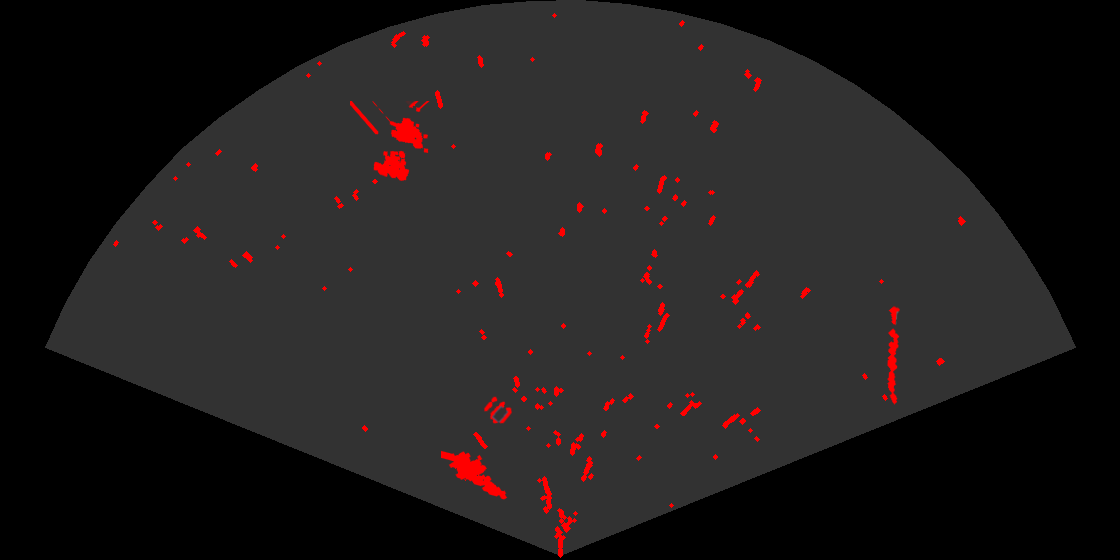ball: (482, 395, 514, 425)
cage: (350, 101, 431, 183)
chain: (886, 304, 901, 405)
frogman: (441, 449, 509, 501)
